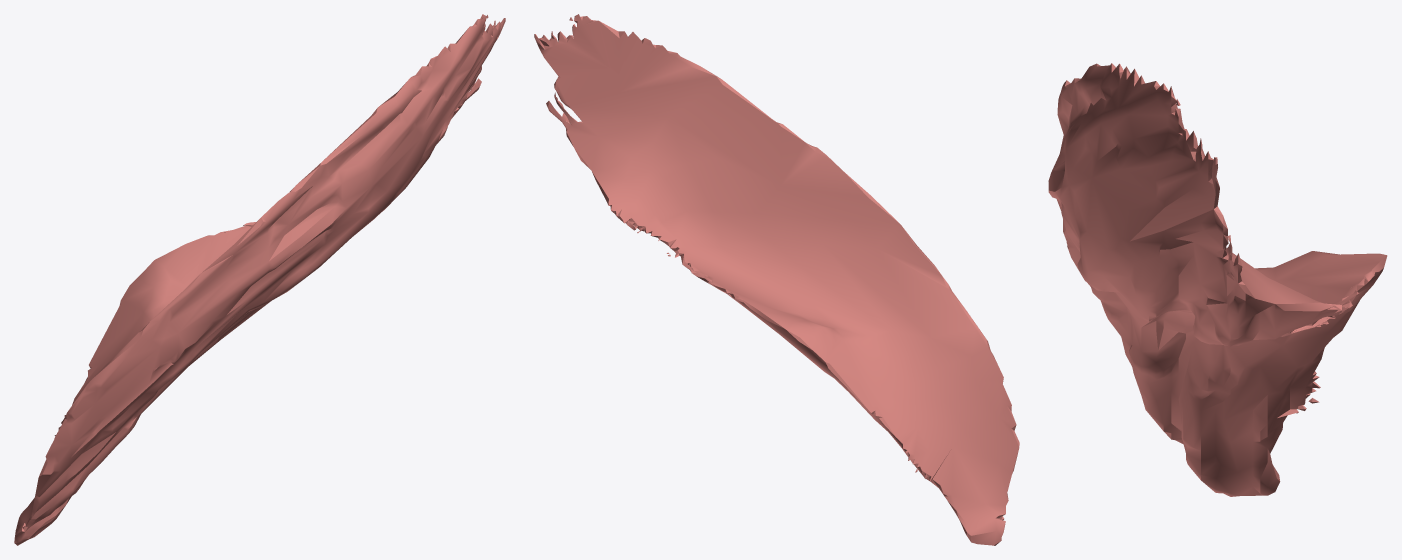
File: fma46797.glb
3 views of the same model, side by side, from view 1: azimuth 30°, elevation 25°; view 2: azimuth 150°, elevation 25°; view 3: azimuth 270°, elevation 25° (orthographic). The views are drawn at different scales.
Visible parts, largest first — view 1: FMA46797; view 2: FMA46797; view 3: FMA46797.
Boxes of the visible parts, <box> form: FMA46797: <box>14,14,505,545</box>; FMA46797: <box>534,14,1019,545</box>; FMA46797: <box>1048,63,1387,496</box>.
Bounding box in the file's own units: 0.0219 × 0.0185 × 0.00684.
